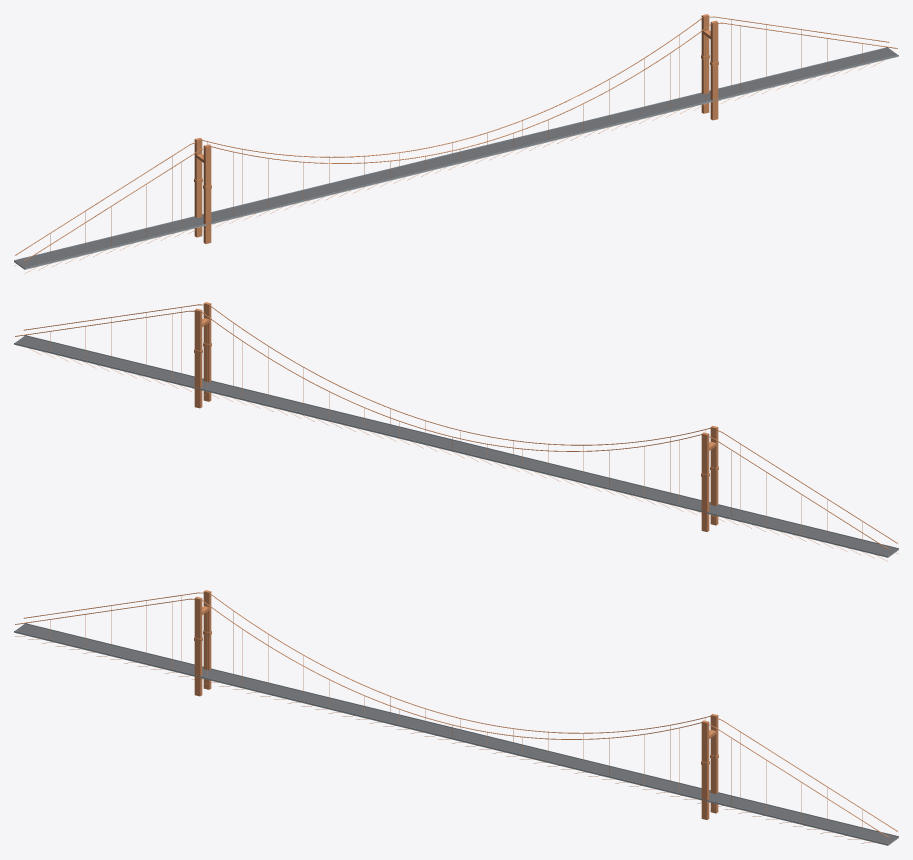
3 renders of one model, top to bottom at view 1: azimuth 30°, elevation 25°; view 2: azimuth 150°, elevation 25°; view 3: azimuth 330°, elevation 25°, orthographic.
Parts seen in each view (by area): view 1: worldgen; view 2: worldgen; view 3: worldgen.
Boxes of the visible parts, left/top/right/bottom form: worldgen: left=14, top=14, right=898, bottom=273; worldgen: left=14, top=302, right=898, bottom=561; worldgen: left=14, top=590, right=898, bottom=845.
Bounding box in the file's own units: 1600 × 170 × 36.54.
